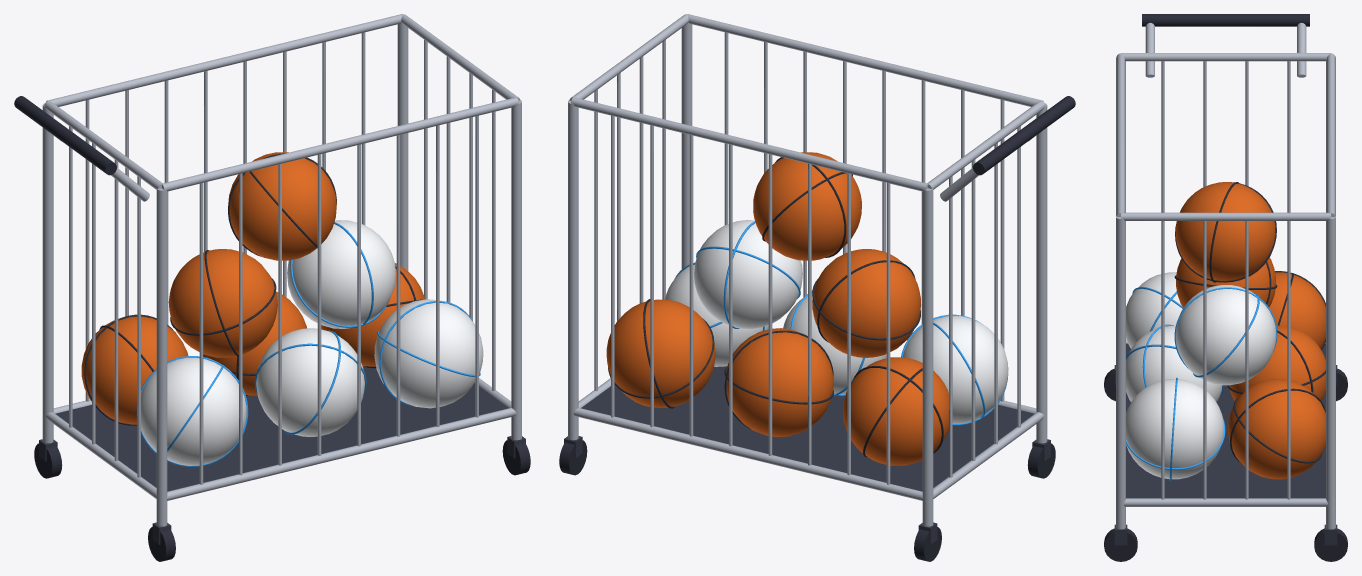
The model's file is sch-032.glb.
The picture shows the model from 3 angles, left to right: view 1: azimuth 30°, elevation 25°; view 2: azimuth 150°, elevation 25°; view 3: azimuth 270°, elevation 25°; orthographic projection. The views are drawn at different scales.
Parts seen in each view (by area): view 1: base_mesh, basketball_7_shell, volleyball_6_shell, volleyball_4_shell, basketball_9_shell, volleyball_8_shell, volleyball_2_shell, basketball_1_shell, post_3, post_1, post_4, top_rail_long_2 (+38 smaller); view 2: base_mesh, basketball_7_shell, basketball_5_shell, basketball_3_shell, basketball_9_shell, volleyball_8_shell, basketball_1_shell, volleyball_2_shell, post_1, post_3, post_2, top_rail_long_1 (+36 smaller); view 3: volleyball_8_shell, volleyball_6_shell, basketball_5_shell, basketball_9_shell, base_mesh, post_2, post_4, basketball_3_shell, volleyball_4_shell, basketball_1_shell, volleyball_2_shell, handle_grip (+23 smaller).
Part boxes in pixels (x1,y1,x2,y2): base_mesh: (55,366,508,491); basketball_7_shell: (168,249,277,357); volleyball_6_shell: (374,299,483,408); volleyball_4_shell: (256,328,364,436); basketball_9_shell: (228,152,336,260); volleyball_8_shell: (287,220,395,328); volleyball_2_shell: (141,357,246,465); basketball_1_shell: (81,316,188,424); post_3: (156,188,167,526); post_1: (42,103,53,443); post_4: (511,100,521,440); top_rail_long_2: (162,97,518,191); base_mesh: (581,366,1034,491); basketball_7_shell: (812,249,920,357); basketball_5_shell: (606,299,715,407); basketball_3_shell: (725,328,833,437); basketball_9_shell: (753,152,861,260); volleyball_8_shell: (694,220,802,329); basketball_1_shell: (843,357,948,465); volleyball_2_shell: (903,316,1008,423); post_1: (922,188,933,526); post_3: (1036,103,1047,443); post_2: (568,100,578,440); top_rail_long_1: (571,97,927,191); volleyball_8_shell: (1176,285,1276,385); volleyball_6_shell: (1126,379,1224,479); basketball_5_shell: (1227,379,1325,479); basketball_9_shell: (1175,182,1275,282); base_mesh: (1126,343,1325,498); post_2: (1326,216,1335,529); post_4: (1116,216,1125,529); basketball_3_shell: (1229,325,1325,400); volleyball_4_shell: (1126,325,1222,402); basketball_1_shell: (1269,272,1325,348); volleyball_2_shell: (1126,272,1182,348); handle_grip: (1142,14,1309,26).
Size of the model in its own units: 1.03 by 0.965 by 0.58.
